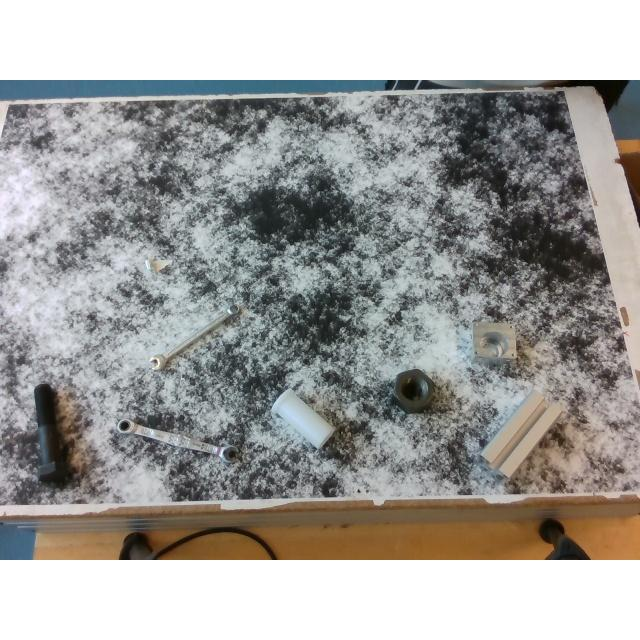M20_100: (34, 383, 66, 481)
M30: (394, 369, 434, 413)
S40_40_G: (481, 390, 565, 478)
Spacer: (270, 390, 338, 450)
Wrench: (116, 418, 240, 462)
